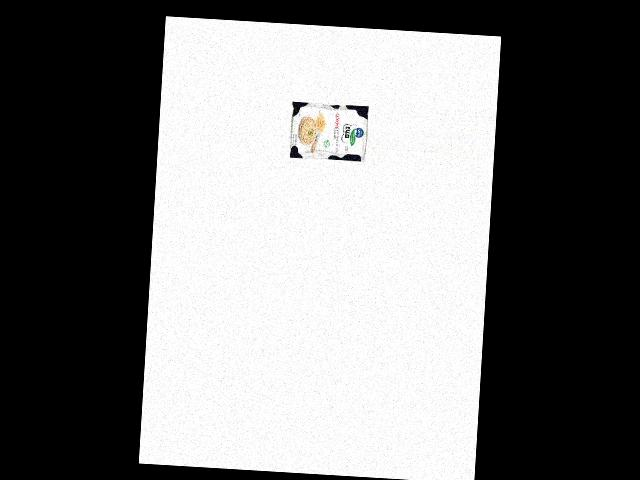cheese: (287, 99, 369, 163)
